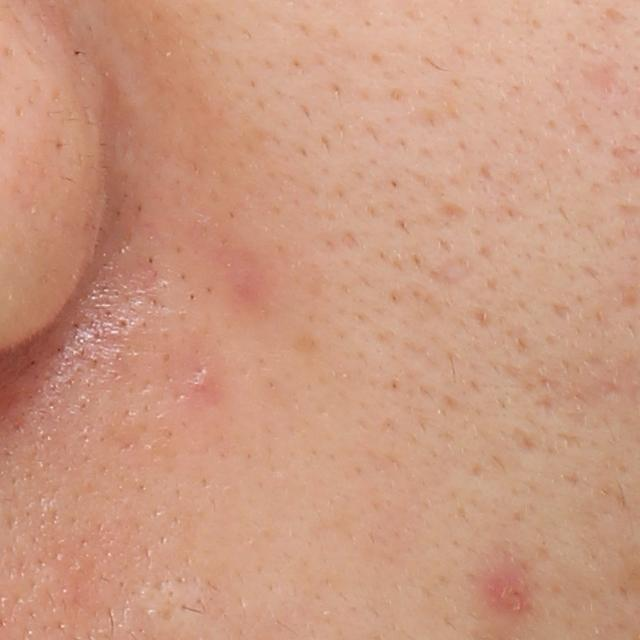atrophic_scar: (582, 56, 627, 99)
papule: (486, 569, 528, 613)
